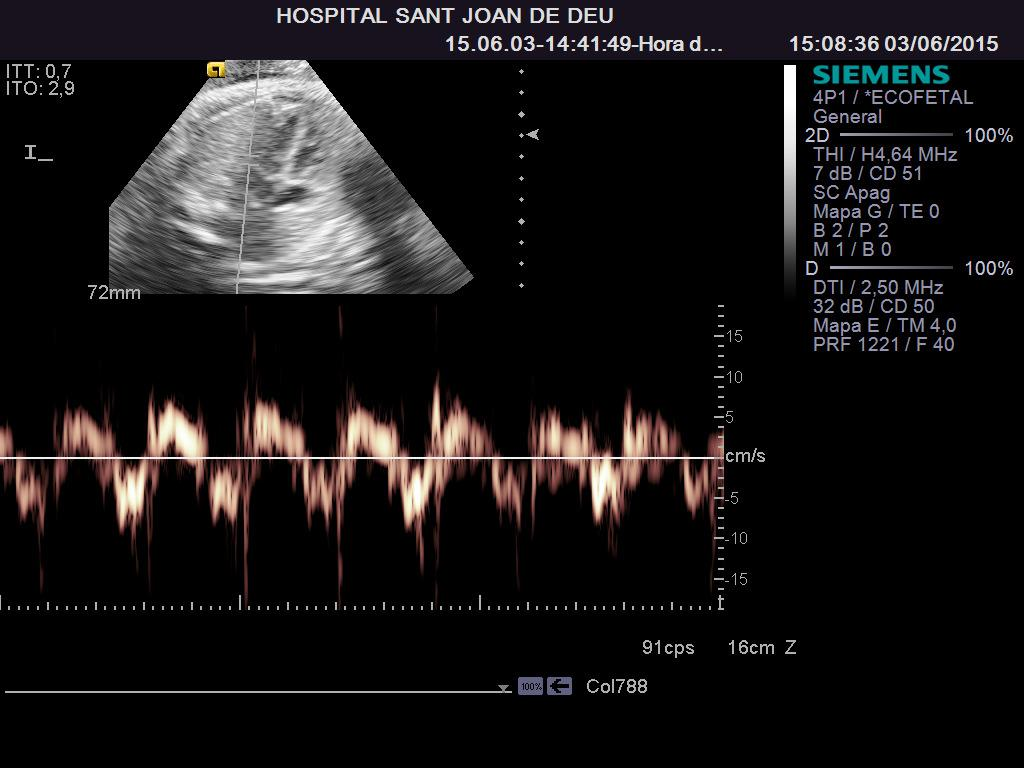Ultrasound-Waves: (0, 309, 713, 596)
